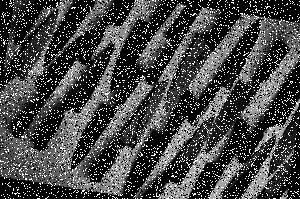knife: (3, 19, 95, 146), (204, 35, 295, 153), (32, 37, 114, 155), (84, 76, 173, 184), (67, 63, 151, 173), (159, 11, 247, 115), (185, 15, 265, 126), (119, 91, 200, 198), (238, 60, 300, 165), (106, 1, 174, 94), (144, 114, 218, 199), (188, 118, 257, 199), (1, 0, 62, 87), (145, 4, 207, 84), (216, 131, 279, 199), (42, 0, 96, 67)
